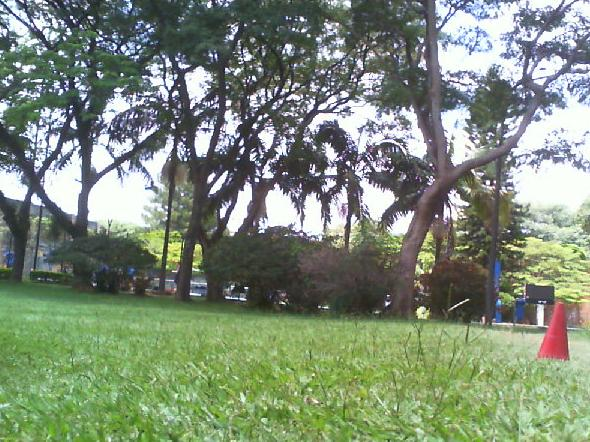0 cone: (535, 301, 571, 360)
